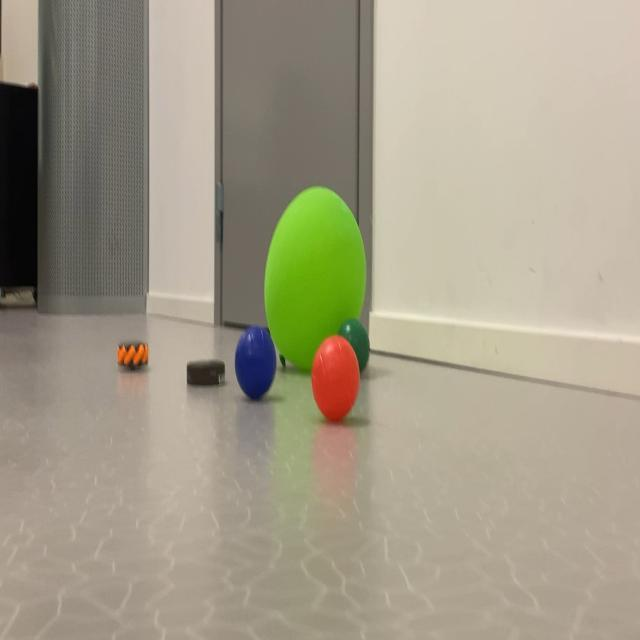blue ball: (234, 331, 270, 396)
gren: (342, 324, 365, 334)
red ball: (311, 343, 362, 417)
